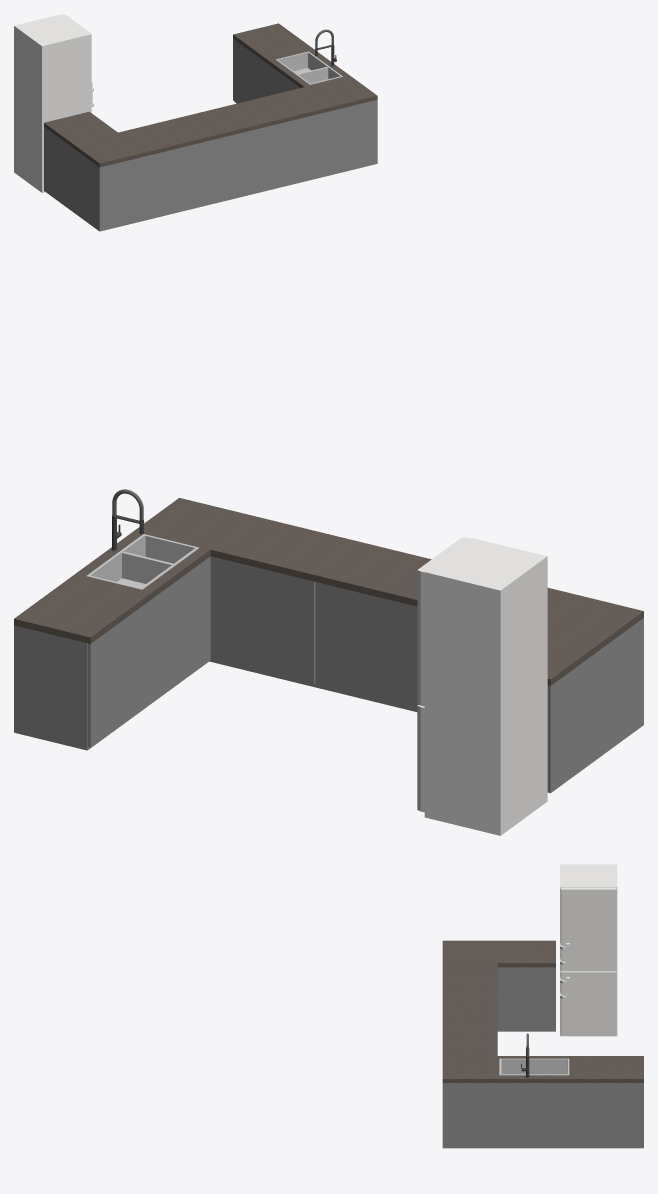
Rendered from kux1.glb.
The picture shows the model from 3 angles, top to bottom: view 1: azimuth 30°, elevation 25°; view 2: azimuth 150°, elevation 25°; view 3: azimuth 270°, elevation 25°; orthographic projection. The views are drawn at different scales.
Parts seen in each view (by area): view 1: geometry-lumionModel, geometry-lumionModel.001, geometry-lumionModel.007, geometry-lumionModel.004; view 2: geometry-lumionModel, geometry-lumionModel.007, geometry-lumionModel.001, geometry-lumionModel.004; view 3: geometry-lumionModel, geometry-lumionModel.001, geometry-lumionModel.007, geometry-lumionModel.004.
Boxes of the visible parts, left/top/right/bottom form: geometry-lumionModel: left=44, top=39, right=377, bottom=231; geometry-lumionModel.001: left=44, top=23, right=377, bottom=167; geometry-lumionModel.007: left=14, top=14, right=93, bottom=192; geometry-lumionModel.004: left=275, top=51, right=342, bottom=84; geometry-lumionModel: left=14, top=556, right=643, bottom=793; geometry-lumionModel.007: left=417, top=537, right=547, bottom=835; geometry-lumionModel.001: left=14, top=498, right=643, bottom=685; geometry-lumionModel.004: left=86, top=534, right=199, bottom=589; geometry-lumionModel: left=442, top=967, right=643, bottom=1148; geometry-lumionModel.001: left=442, top=940, right=643, bottom=1082; geometry-lumionModel.007: left=560, top=864, right=617, bottom=1036; geometry-lumionModel.004: left=499, top=1058, right=569, bottom=1075.
Bounding box in the file's own units: 4.41 × 1.85 × 7.07.
9 materials, 1 textured.
